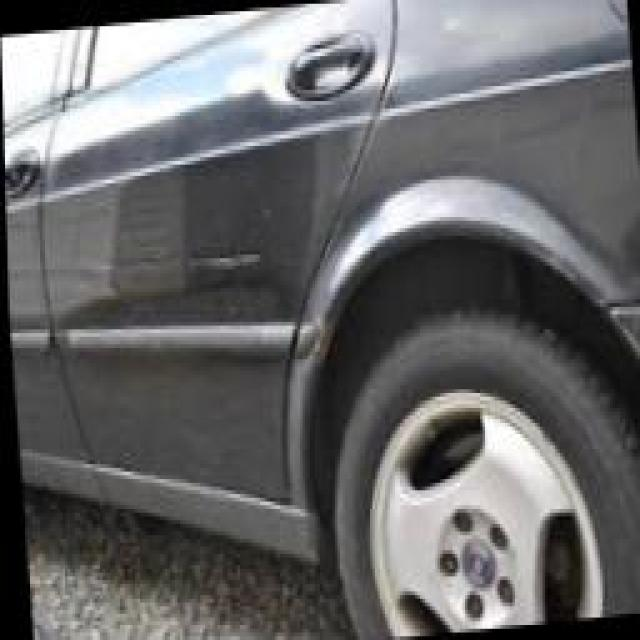Fender: (290, 298, 342, 384)
